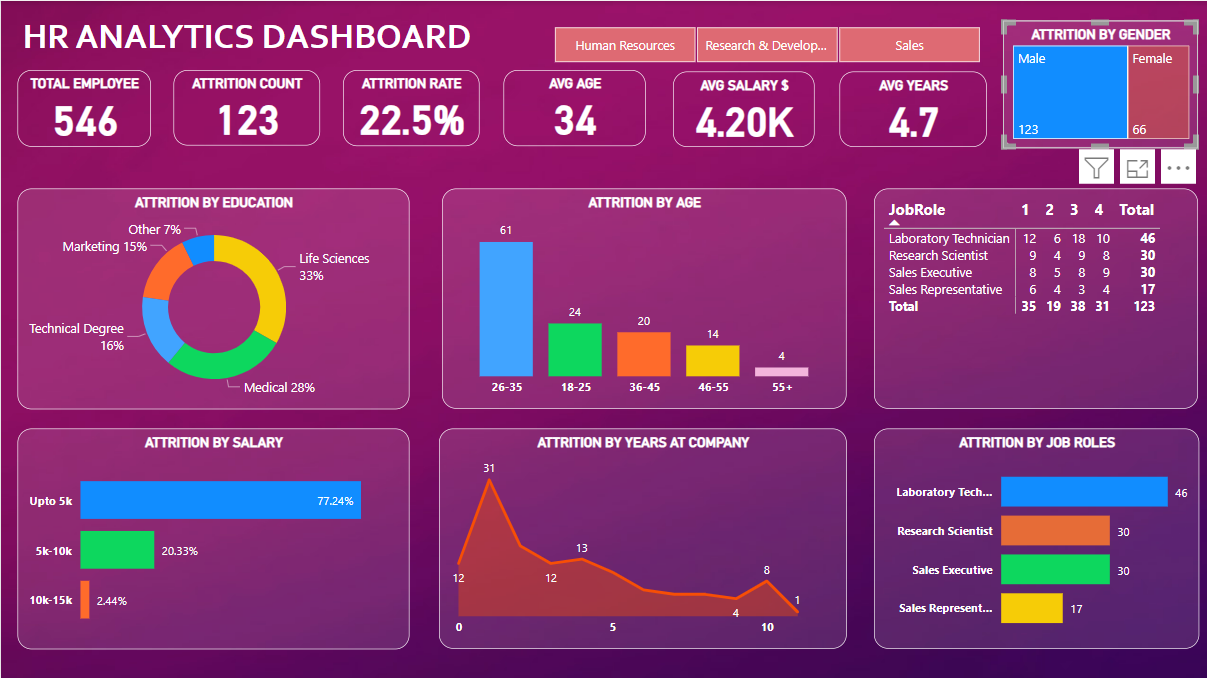

Layout of this report page (visuals, bound fields, positions):
{"tool":"powerbi","page":{"name":"Page 1","canvas":[1280,720],"ordinal":0},"visuals":[{"type":"card","title":"TOTAL EMPLOYEE","fields":{"Values":["CountNonNull(HR_Analytics.EmpID)"]},"box":[17.5,72.5,141.2,81.2],"z":0},{"type":"card","title":"ATTRITION COUNT","fields":{"Values":["Sum(HR_Analytics.AttritionCount)"]},"box":[182.5,73.8,155,80],"z":1000},{"type":"card","title":"ATTRITION RATE","fields":{"Values":["HR_Analytics.Measure"]},"box":[361.9,73,144.4,81],"z":2000},{"type":"card","title":"AVG AGE","fields":{"Values":["Avg(HR_Analytics.Age)"]},"box":[531.7,73,150.8,81],"z":3000},{"type":"card","title":"AVG SALARY $","fields":{"Values":["Avg(HR_Analytics.MonthlyIncome)"]},"box":[712.8,74.4,150.3,80.2],"z":4000},{"type":"card","title":"AVG YEARS ","fields":{"Values":["Avg(HR_Analytics.YearsAtCompany)"]},"box":[888.9,74.4,156,80.2],"z":5000},{"type":"donutChart","title":"ATTRITION BY EDUCATION","fields":{"Category":["HR_Analytics.EducationField"],"Y":["Sum(HR_Analytics.AttritionCount)"]},"box":[17.5,198.8,415,233.8],"z":6000},{"type":"columnChart","title":"ATTRITION BY AGE","fields":{"Category":["HR_Analytics.AgeGroup"],"Y":["Sum(HR_Analytics.AttritionCount)"]},"box":[466.7,198.4,428.6,233.3],"z":7000},{"type":"pivotTable","fields":{"Rows":["HR_Analytics.JobRole"],"Columns":["HR_Analytics.JobSatisfaction"],"Values":["Sum(HR_Analytics.AttritionCount)"]},"box":[924.7,199,343.5,233.3],"z":8000},{"type":"clusteredBarChart","title":"ATTRITION BY SALARY","fields":{"Category":["HR_Analytics.SalarySlab"],"Y":["Sum(HR_Analytics.AttritionCount)"]},"box":[17.5,452.5,415,233.8],"z":9000},{"type":"clusteredBarChart","title":"ATTRITION BY JOB ROLES","fields":{"Category":["HR_Analytics.JobRole"],"Y":["Sum(HR_Analytics.AttritionCount)"]},"box":[925.4,452.4,344.4,233.3],"z":10000},{"type":"areaChart","title":"ATTRITION BY YEARS AT COMPANY","fields":{"Category":["HR_Analytics.YearsAtCompany"],"Y":["Sum(HR_Analytics.AttritionCount)"]},"box":[463.5,452.4,431.7,233.3],"z":11000},{"type":"treemap","title":"ATTRITION BY GENDER","fields":{"Group":["HR_Analytics.Gender"],"Values":["Sum(HR_Analytics.AttritionCount)"]},"box":[1061.9,20.6,206.3,134.9],"z":12000},{"type":"slicer","title":"DEPARTMENTS","fields":{"Values":["HR_Analytics.Department"]},"box":[561.2,21.2,500,51.2],"z":13000},{"type":"textbox","box":[0,10,521.2,57.5],"z":14000}]}

Visuals, with their boxes in screenshot pixels (x1, y1, x2, y2), scaled from the page's 1280x720 canvas onto the 1207x678 screenshot:
"TOTAL EMPLOYEE" card: [left=17, top=68, right=150, bottom=145]
"ATTRITION COUNT" card: [left=172, top=69, right=318, bottom=145]
"ATTRITION RATE" card: [left=341, top=69, right=477, bottom=145]
"AVG AGE" card: [left=501, top=69, right=644, bottom=145]
"AVG SALARY $" card: [left=672, top=70, right=814, bottom=146]
"AVG YEARS " card: [left=838, top=70, right=985, bottom=146]
"ATTRITION BY EDUCATION" donutChart: [left=17, top=187, right=408, bottom=407]
"ATTRITION BY AGE" columnChart: [left=440, top=187, right=844, bottom=407]
pivotTable - HR_Analytics.JobRole x HR_Analytics.JobSatisfaction: [left=872, top=187, right=1196, bottom=407]
"ATTRITION BY SALARY" clusteredBarChart: [left=17, top=426, right=408, bottom=646]
"ATTRITION BY JOB ROLES" clusteredBarChart: [left=873, top=426, right=1197, bottom=646]
"ATTRITION BY YEARS AT COMPANY" areaChart: [left=437, top=426, right=844, bottom=646]
"ATTRITION BY GENDER" treemap: [left=1001, top=19, right=1196, bottom=146]
"DEPARTMENTS" slicer: [left=529, top=20, right=1001, bottom=68]
textbox: [left=0, top=9, right=491, bottom=64]
